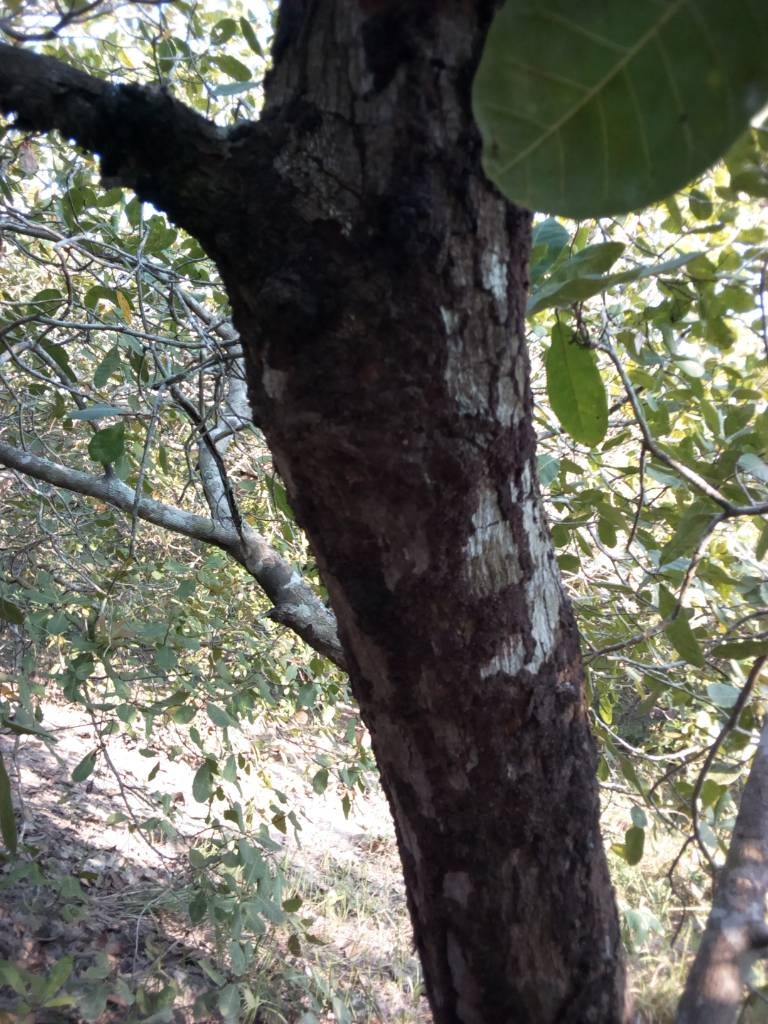Termites: (247, 208, 533, 574), (413, 617, 610, 1016)
